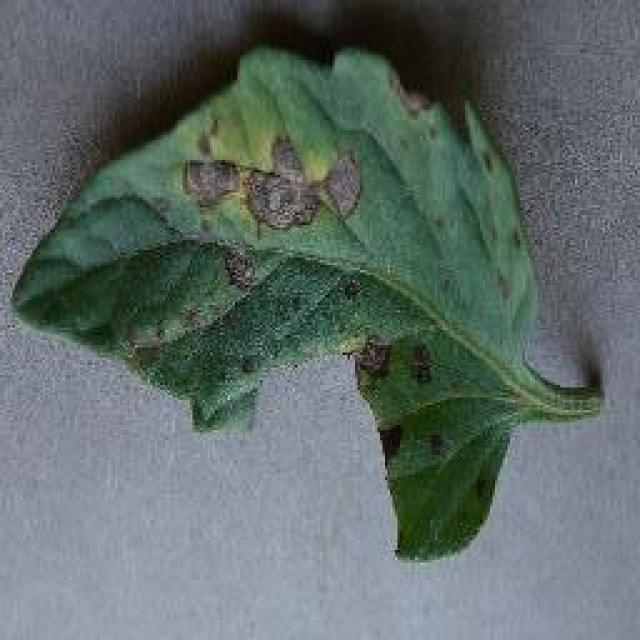Tomato Early blight leaf: (1, 41, 611, 566)
